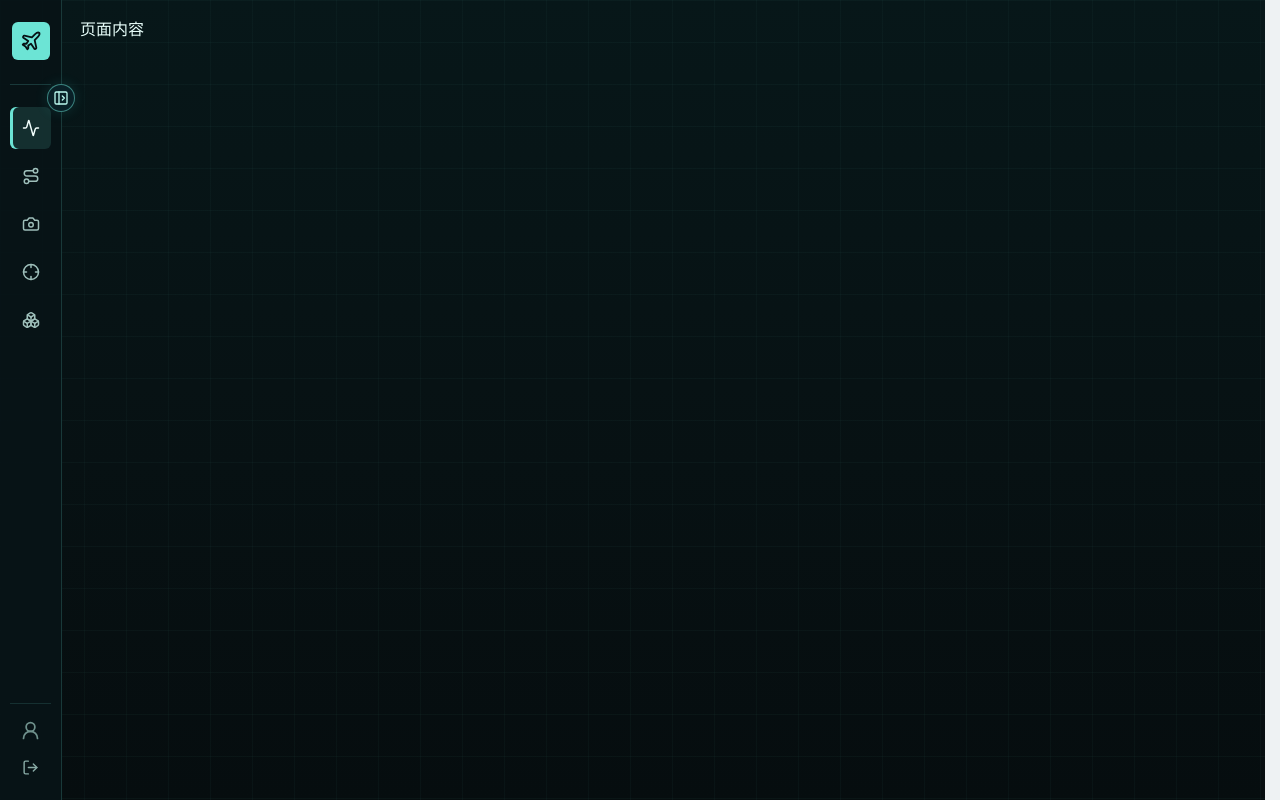
ConsoleLayout sidebar visibility › opts the shared workspaces into expandable navigation without changing their content
Click the button with class "console-sidebar-toggle".
click(61, 98)  # box [47, 84, 75, 112]
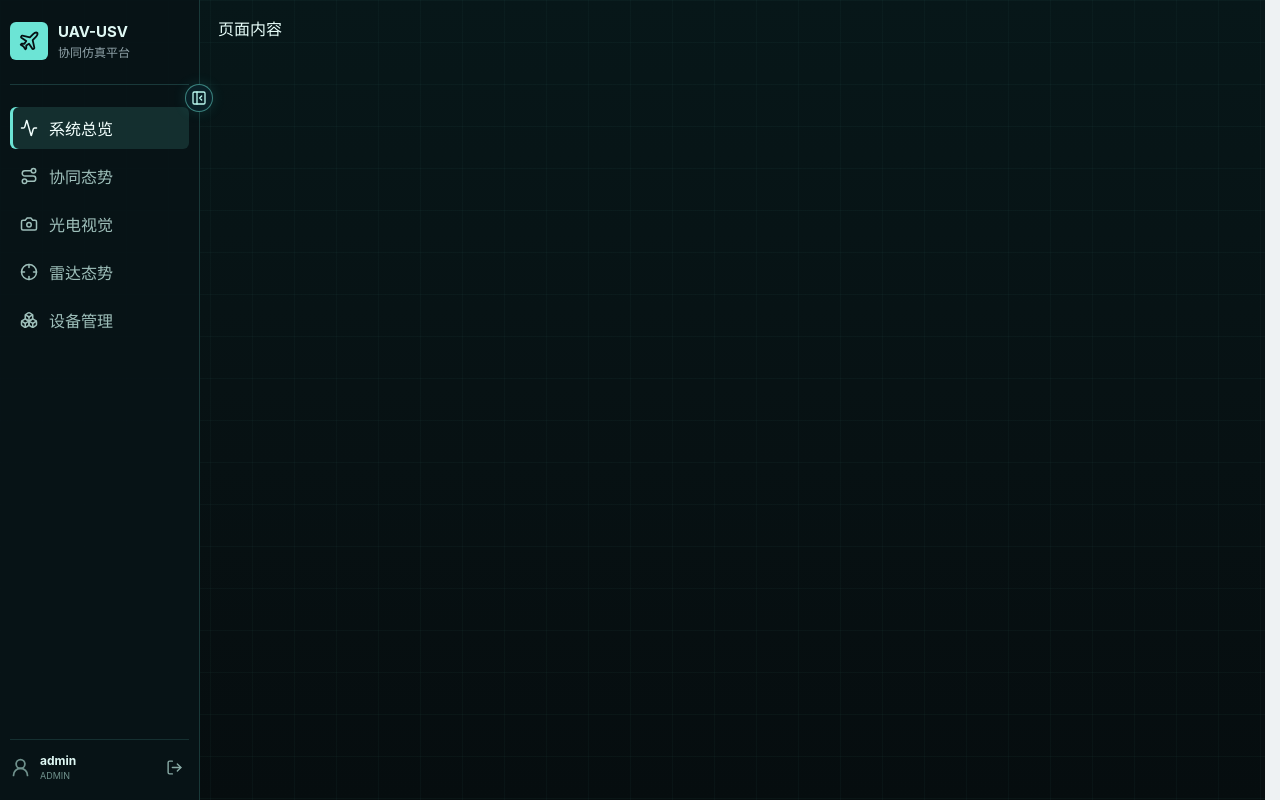
Expected: the text with test id "content" reads "页面内容", [218, 19, 282, 39]
Result: the button with class "console-sidebar-toggle" is expanded at [185, 84, 213, 112]
